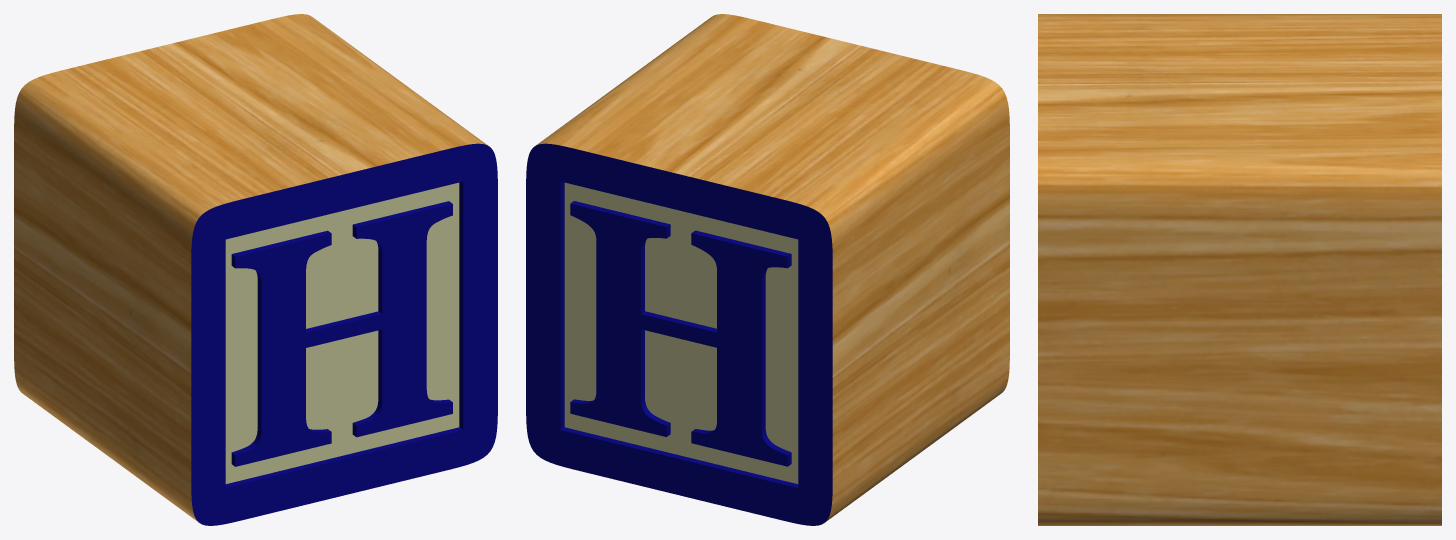
The model's file is block_H.obj.
3 views of the same model, side by side, from view 1: azimuth 30°, elevation 25°; view 2: azimuth 150°, elevation 25°; view 3: azimuth 270°, elevation 25° (orthographic). The views are drawn at different scales.
Visible parts, largest first — view 1: Cube_Cube.006, Plane, H_Text.003; view 2: Cube_Cube.006, Plane, H_Text.003; view 3: Cube_Cube.006.
Boxes of the visible parts, box(x1,y1,x2,y2) form: Cube_Cube.006: box(14, 14, 487, 521); Plane: box(191, 143, 497, 525); H_Text.003: box(231, 201, 452, 466); Cube_Cube.006: box(536, 14, 1009, 521); Plane: box(526, 143, 832, 525); H_Text.003: box(570, 201, 791, 466); Cube_Cube.006: box(1038, 14, 1441, 525).
Bounding box in the file's own units: 2 × 2 × 2.
3 materials, 1 textured.
